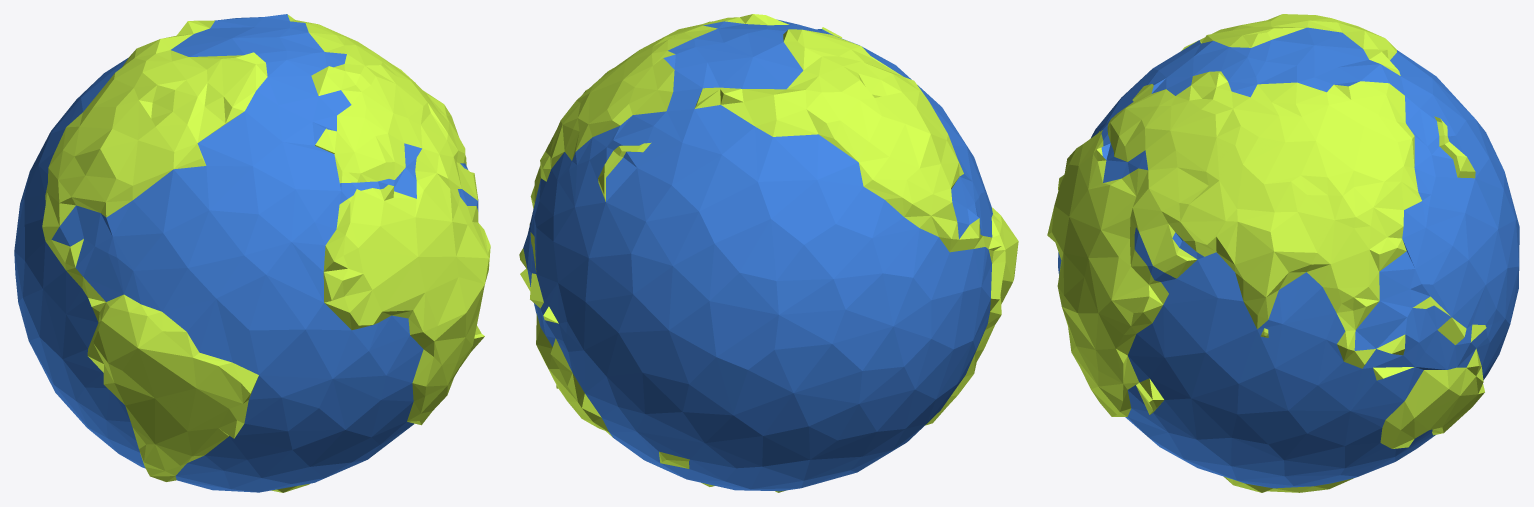
Rendered from globe.glb.
The picture shows the model from 3 angles, left to right: view 1: azimuth 30°, elevation 25°; view 2: azimuth 150°, elevation 25°; view 3: azimuth 270°, elevation 25°; orthographic projection.
Parts seen in each view (by area): view 1: Icosphere.001; view 2: Icosphere.001; view 3: Icosphere.001.
Part boxes in pixels (<box>): Icosphere.001: <box>14,14,490,492</box>; Icosphere.001: <box>519,14,1018,492</box>; Icosphere.001: <box>1047,14,1519,492</box>.
Bounding box in the file's own units: 0.9948 × 1.01 × 1.01.
